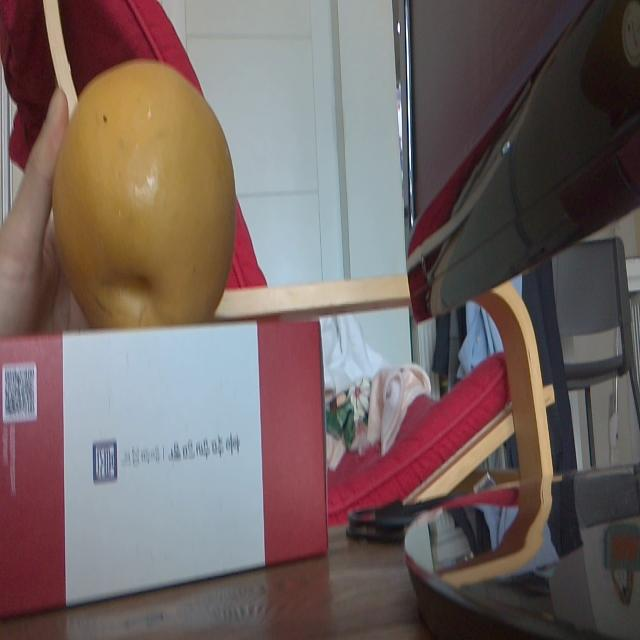pear: (52, 64, 246, 324)
